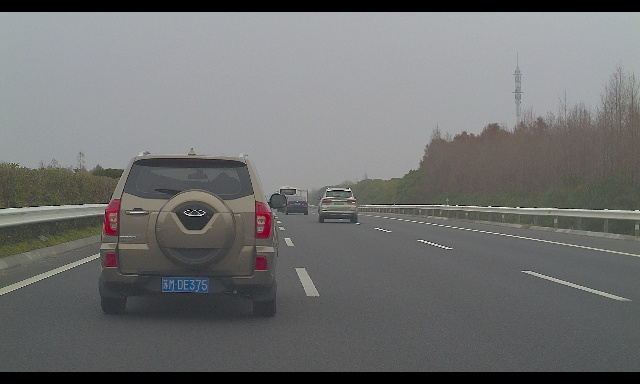bus: (276, 186, 297, 212)
car: (98, 147, 288, 319), (316, 187, 358, 223), (284, 196, 309, 215)
truck: (293, 190, 308, 209)
